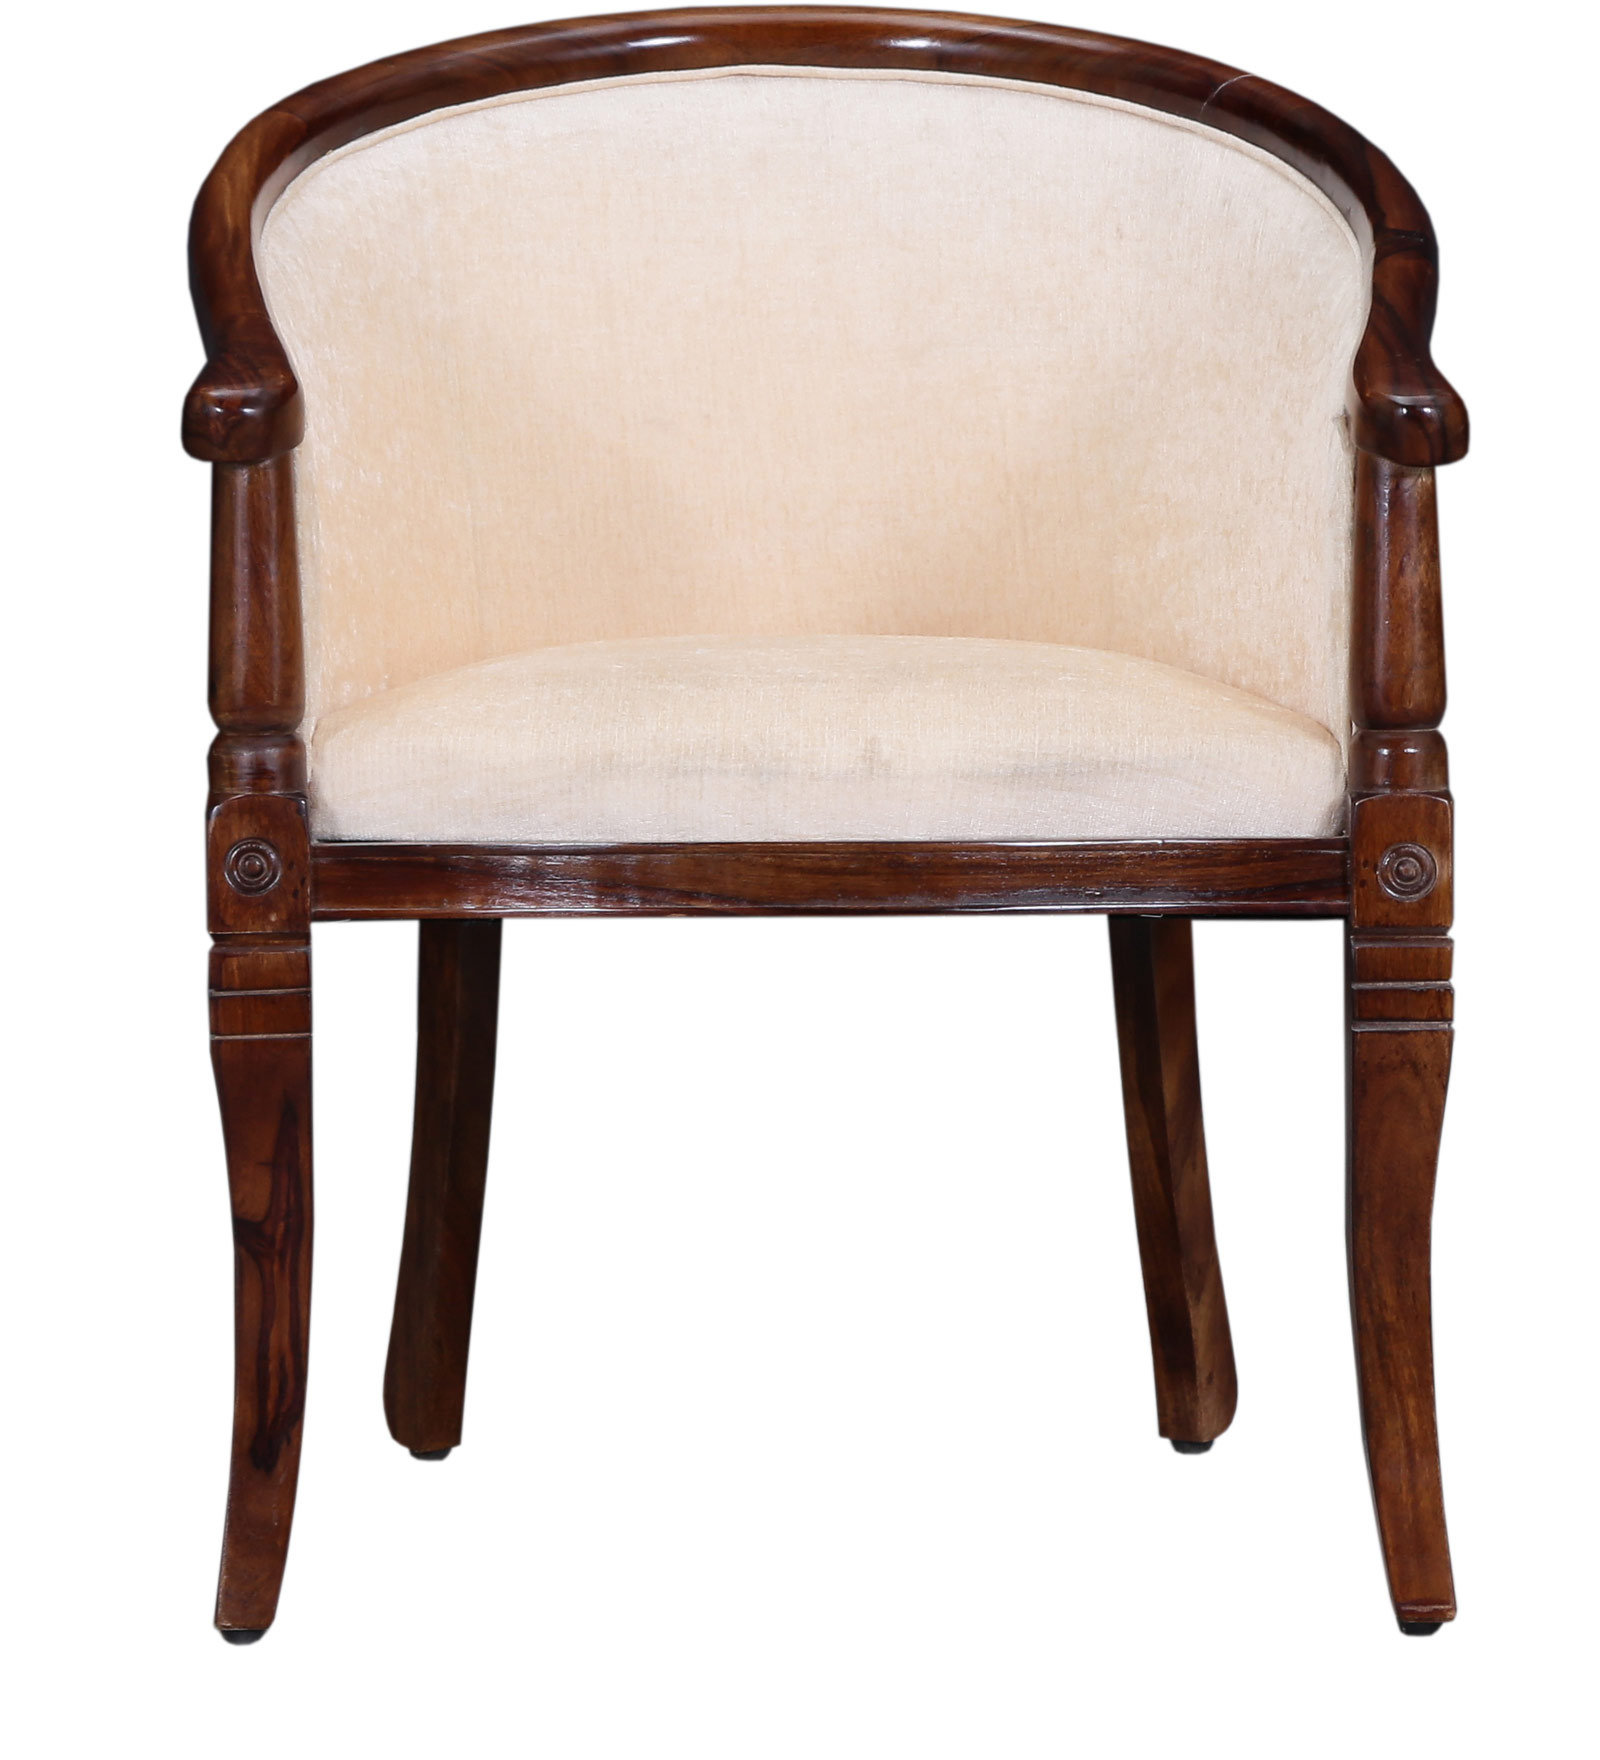Stalley Arm Chair in Cream Color with Honey Oak Finish by Amberville: (90, 8, 1517, 1663)
